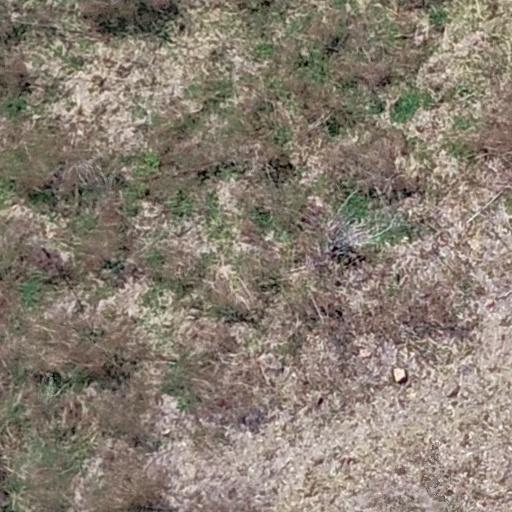stone: (393, 367, 407, 383), (444, 382, 460, 396)
